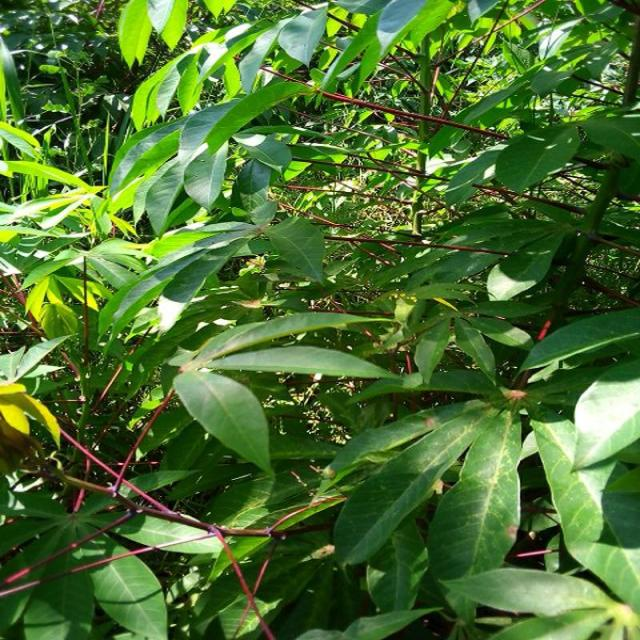cassava leaf: (2, 0, 640, 638), (174, 368, 274, 475)
